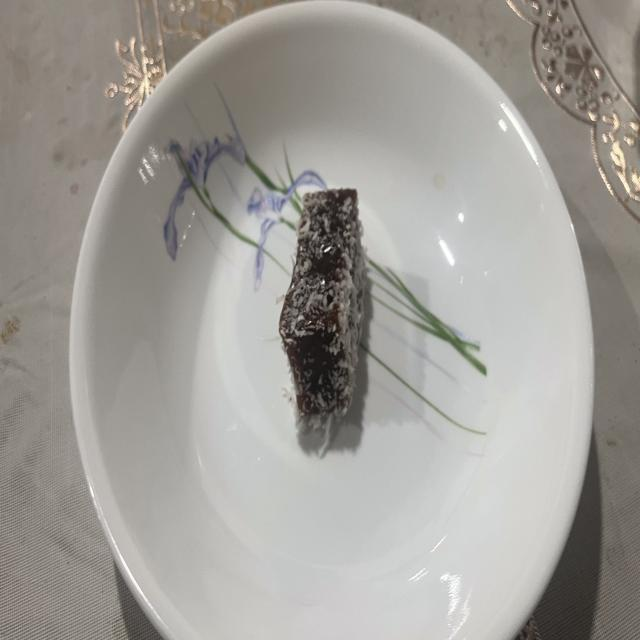kaswi: (279, 189, 366, 440)
